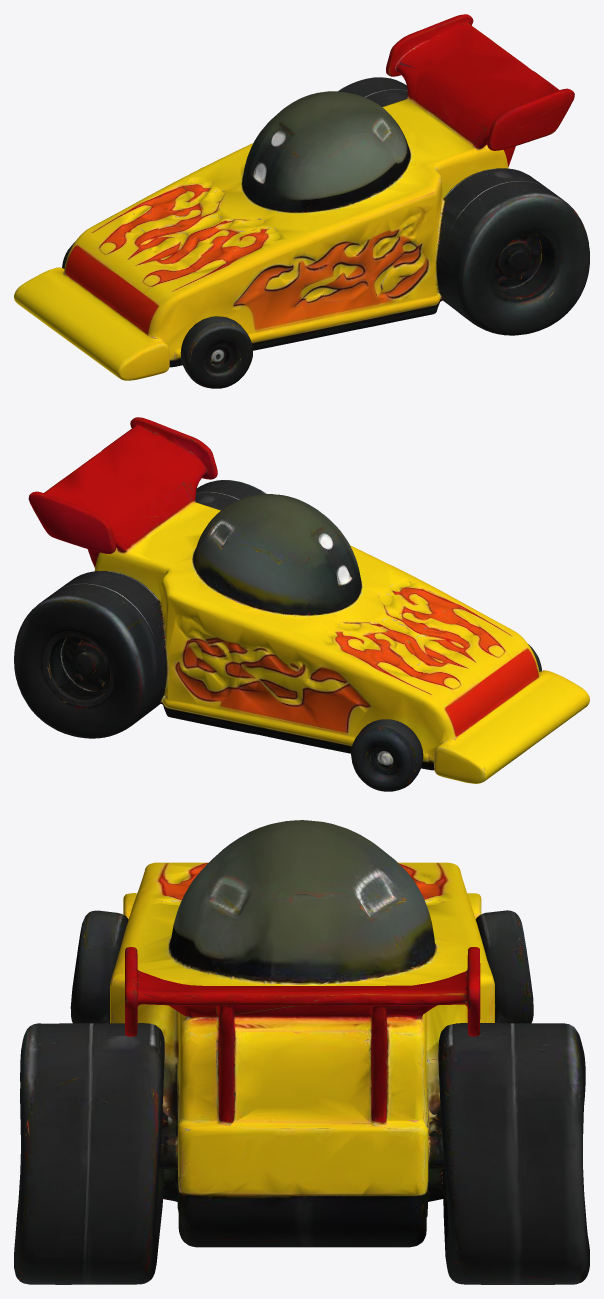
The picture shows the model from 3 angles, top to bottom: view 1: azimuth 30°, elevation 25°; view 2: azimuth 150°, elevation 25°; view 3: azimuth 270°, elevation 25°; orthographic projection. The views are drawn at different scales.
Visible parts, largest first — view 1: Mesh_0; view 2: Mesh_0; view 3: Mesh_0.
Part boxes in pixels (box(x1,y1,x2,y2)): Mesh_0: box(14, 14, 589, 388); Mesh_0: box(14, 417, 589, 791); Mesh_0: box(14, 820, 589, 1284).
Bounding box in the file's own units: 1.91 × 0.8212 × 1.24.
Materials: 1 (1 with a texture image).
